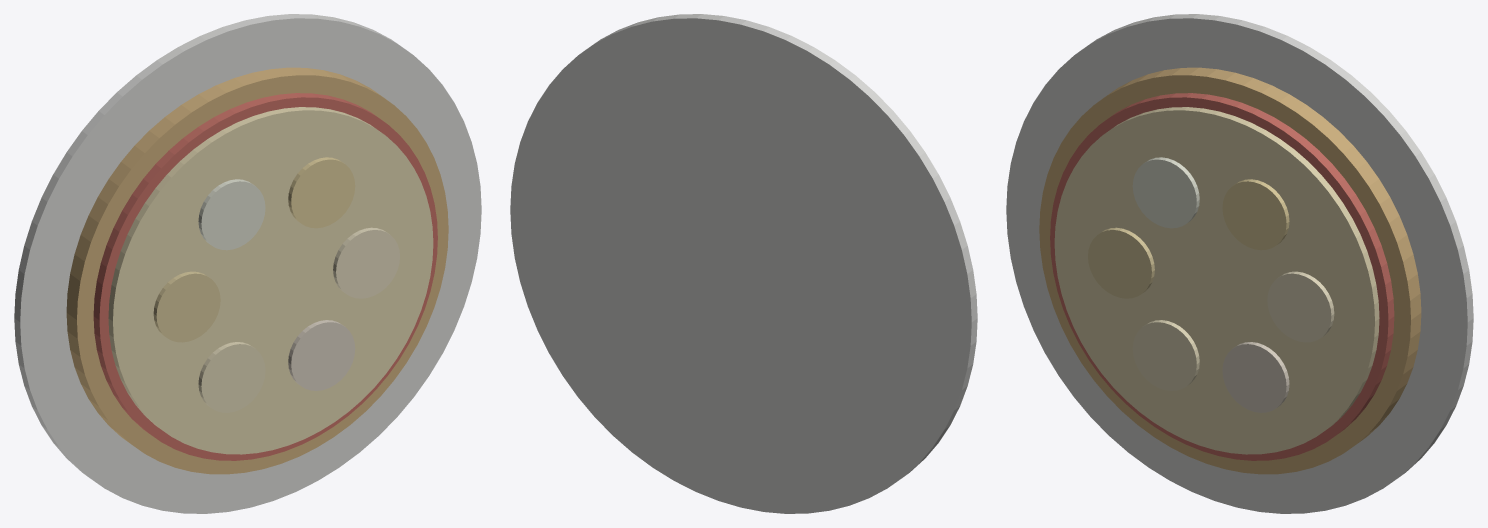
The model's file is pizza-six-cheese.glb.
The picture shows the model from 3 angles, left to right: view 1: azimuth 30°, elevation 25°; view 2: azimuth 150°, elevation 25°; view 3: azimuth 330°, elevation 25°; orthographic projection.
Parts seen in each view (by area): view 1: world; view 2: world; view 3: world.
Part boxes in pixels (x1=…): world: x1=14, y1=14, x2=481, y2=513; world: x1=510, y1=14, x2=977, y2=513; world: x1=1006, y1=14, x2=1473, y2=513.
Size of the model in its own units: 0.36 by 0.36 by 0.045.
